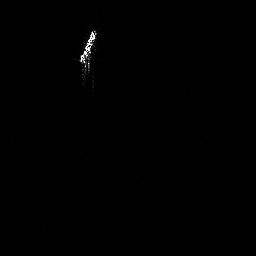ship: (76, 25, 98, 85)
